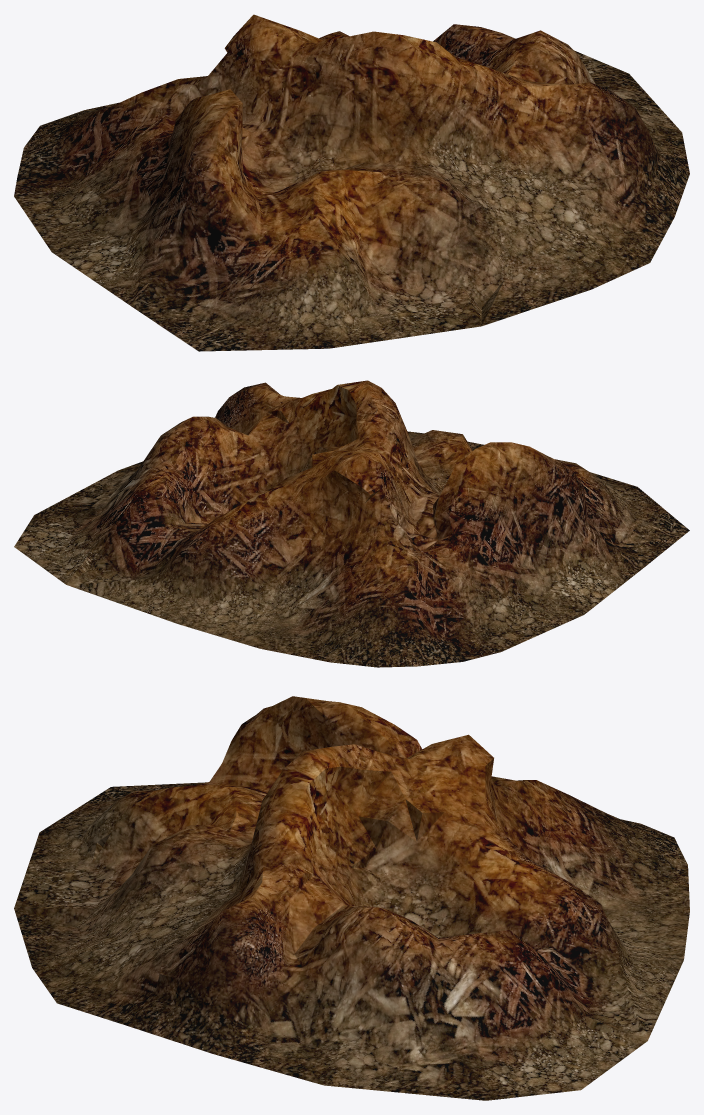
File: JunkPile01_Obj.obj
3 views of the same model, one above another, from view 1: azimuth 30°, elevation 25°; view 2: azimuth 150°, elevation 25°; view 3: azimuth 270°, elevation 25° (orthographic). The views are drawn at different scales.
Parts seen in each view (by area): view 1: JunkPile01; view 2: JunkPile01; view 3: JunkPile01.
Part boxes in pixels (bbox=[...]): JunkPile01: bbox=[14, 14, 689, 351]; JunkPile01: bbox=[14, 380, 689, 667]; JunkPile01: bbox=[14, 696, 689, 1100].
Bounding box in the file's own units: 114 × 32.09 × 102.
1 material, 1 textured.
